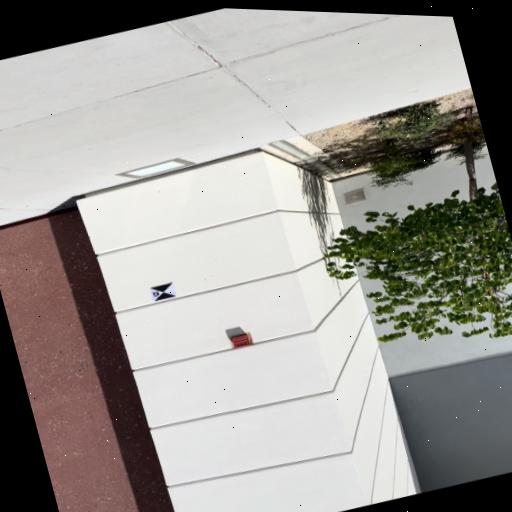target6: (148, 281, 176, 301)
